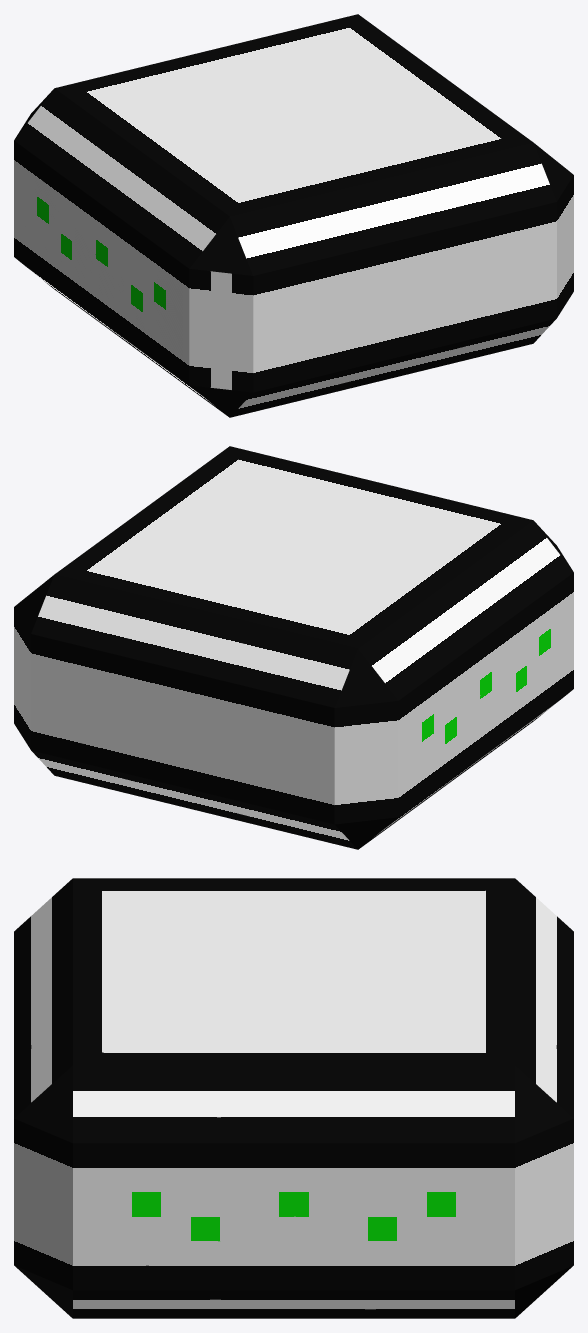
3 views of the same model, one above another, from view 1: azimuth 30°, elevation 25°; view 2: azimuth 150°, elevation 25°; view 3: azimuth 270°, elevation 25° (orthographic). The views are drawn at different scales.
Parts seen in each view (by area): view 1: beveled_cuboid; view 2: beveled_cuboid; view 3: beveled_cuboid.
Part boxes in pixels (x1=…): beveled_cuboid: x1=14, y1=14, x2=573, y2=417; beveled_cuboid: x1=14, y1=446, x2=573, y2=849; beveled_cuboid: x1=14, y1=878, x2=573, y2=1318.
Bounding box in the file's own units: 1.19 × 0.5938 × 1.19.
1 material, 1 textured.
